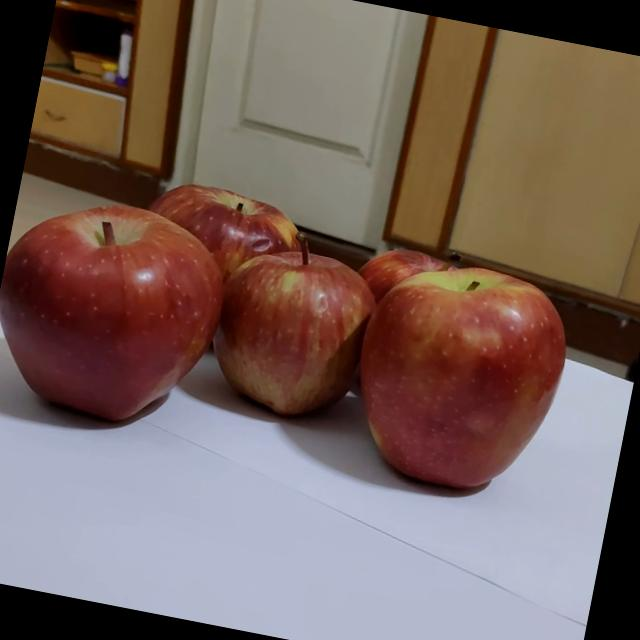apple: (0, 191, 253, 478), (89, 161, 316, 382), (370, 260, 590, 486), (212, 242, 408, 437), (324, 227, 489, 388)
